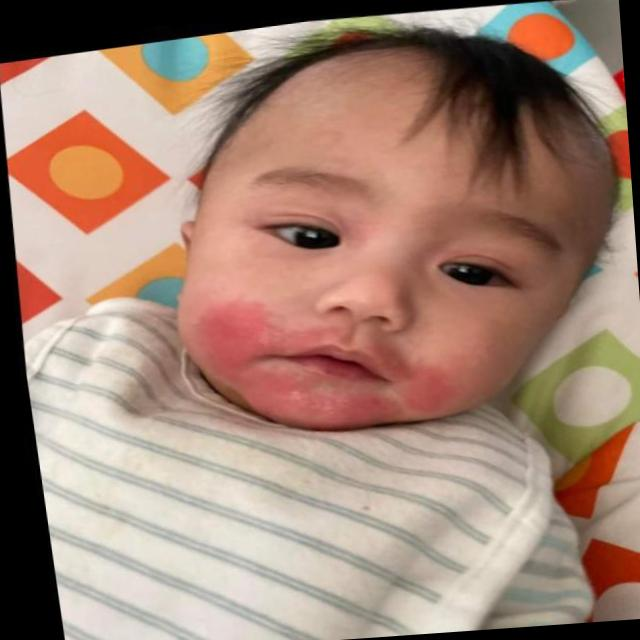redness: (193, 302, 458, 424)
